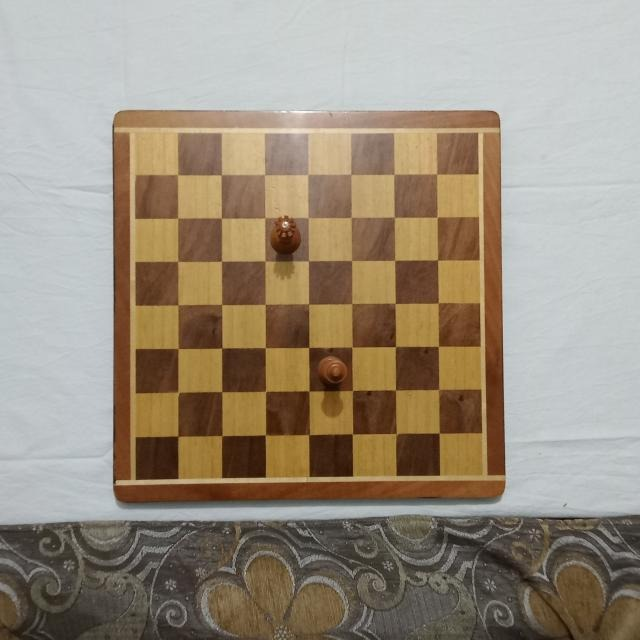white-king: (317, 353, 350, 388)
white-queen: (268, 212, 301, 256)
